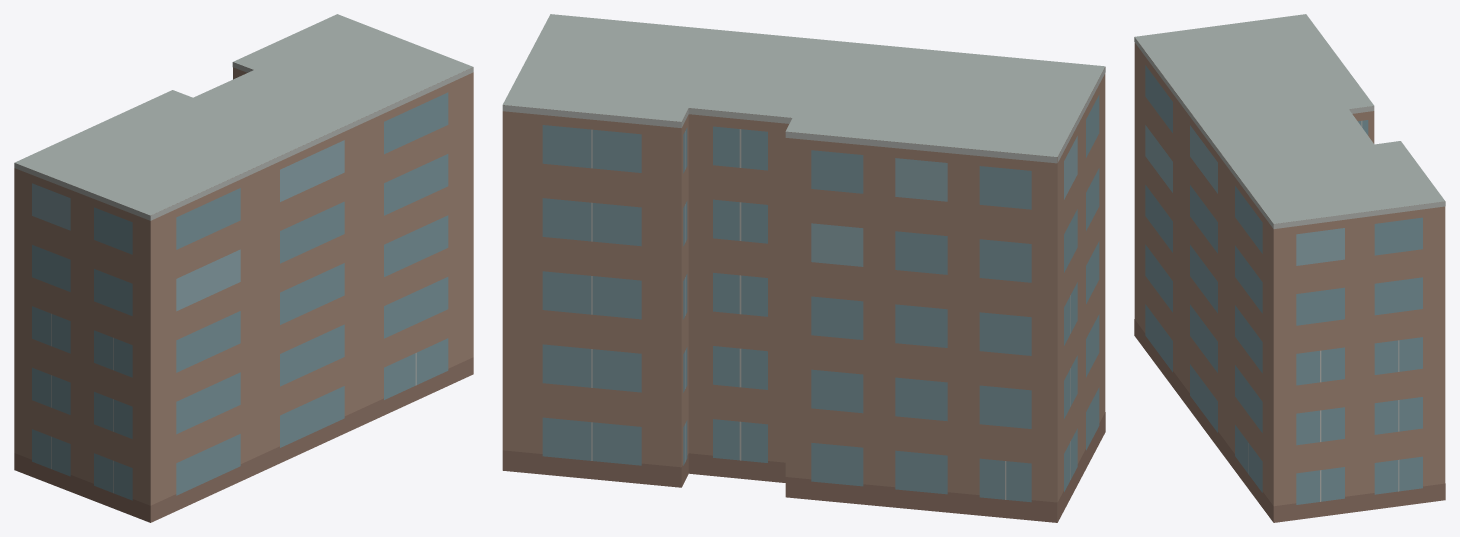
Rendered from survey-upis-32928154.glb.
3 renders of one model, left to right at view 1: azimuth 30°, elevation 25°; view 2: azimuth 150°, elevation 25°; view 3: azimuth 270°, elevation 25°, orthographic. The views are drawn at different scales.
Parts seen in each view (by area): view 1: survey-upis-32928154.tmp; view 2: survey-upis-32928154.tmp; view 3: survey-upis-32928154.tmp.
Part boxes in pixels (x1,y1,x2,y2): survey-upis-32928154.tmp: (14,14,473,522); survey-upis-32928154.tmp: (502,14,1105,522); survey-upis-32928154.tmp: (1134,14,1445,522).
Bounding box in the file's own units: 21.42 × 14.2 × 13.4.
